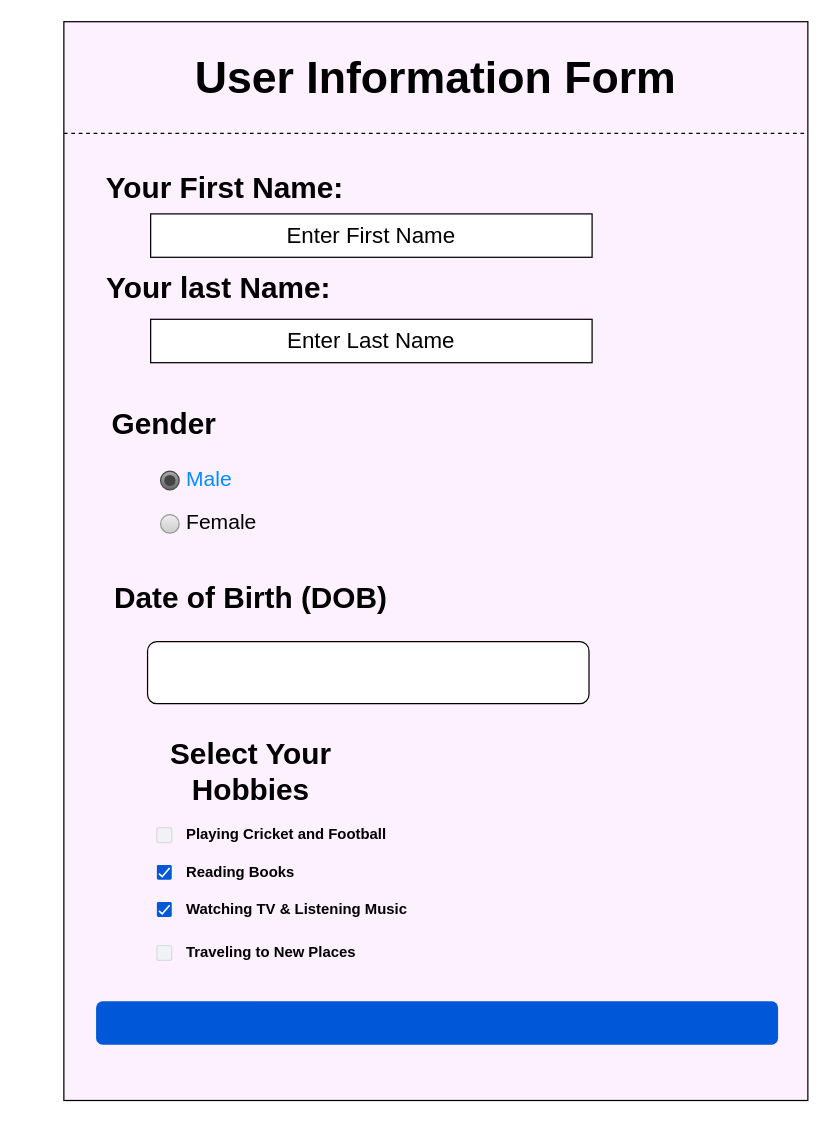
Some shapes in this 831 by 1122 pixel diagram are drawn without their labels. Each missing label, with the box of its shape:
05-Nov-2026: (146, 640, 589, 704)
SUBMIT: (95, 1001, 777, 1044)
